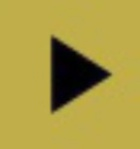ImgButton: (1, 1, 139, 148)
